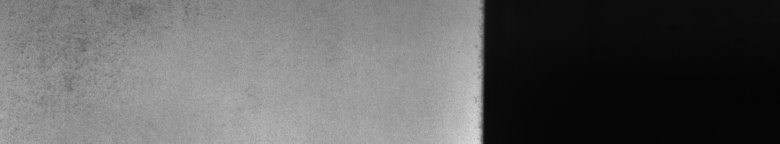ib: (68, 4, 140, 91)
